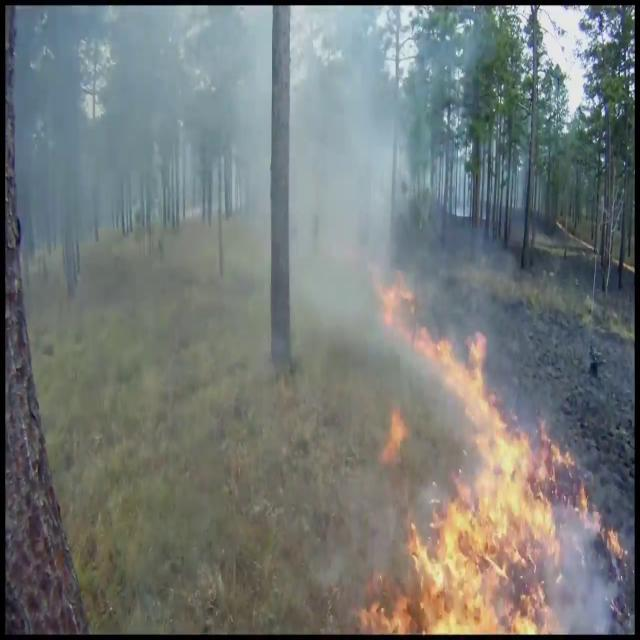Fire: (401, 428, 613, 634), (381, 252, 498, 442)
Smoke: (20, 0, 464, 361)
